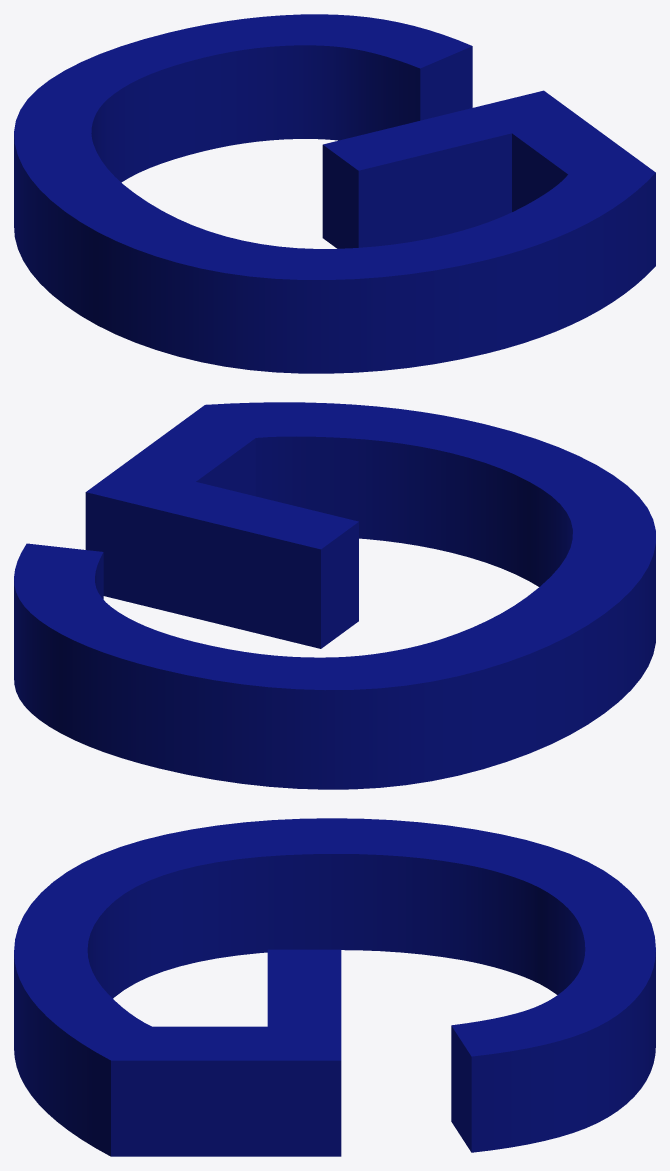
3 views of the same model, one above another, from view 1: azimuth 30°, elevation 25°; view 2: azimuth 150°, elevation 25°; view 3: azimuth 270°, elevation 25° (orthographic). The views are drawn at different scales.
Parts seen in each view (by area): view 1: TextPlus007; view 2: TextPlus007; view 3: TextPlus007.
Part boxes in pixels (left/top/right/bottom): TextPlus007: left=14, top=14, right=655, bottom=373; TextPlus007: left=14, top=402, right=655, bottom=789; TextPlus007: left=14, top=818, right=655, bottom=1156.
Size of the model in its own units: 23.68 by 4.38 by 26.52.
